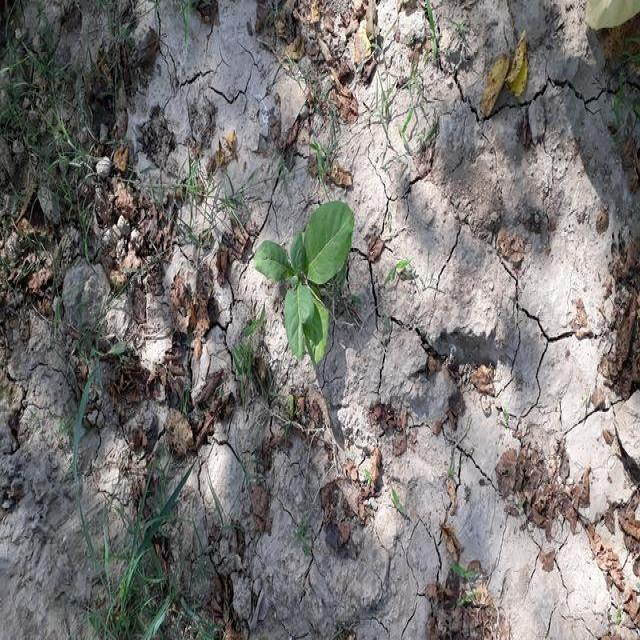crop: (245, 188, 368, 378)
